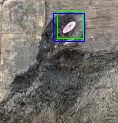text: (57, 11, 83, 38)
